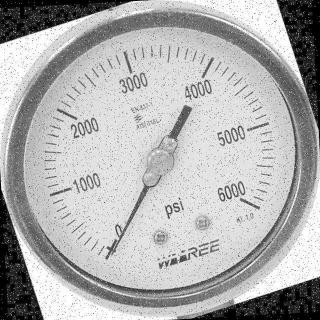gauge: (0, 0, 320, 320), (213, 168, 269, 230), (90, 217, 140, 266), (146, 147, 176, 176), (105, 247, 121, 263)
